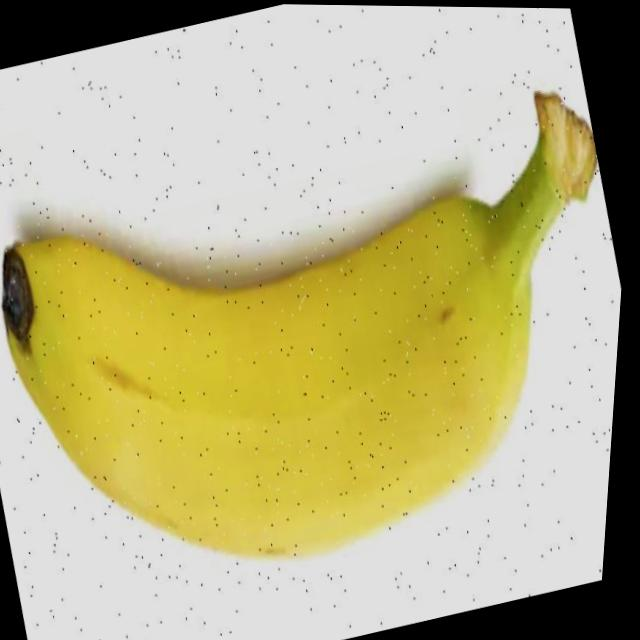Banana: (0, 73, 636, 622)
